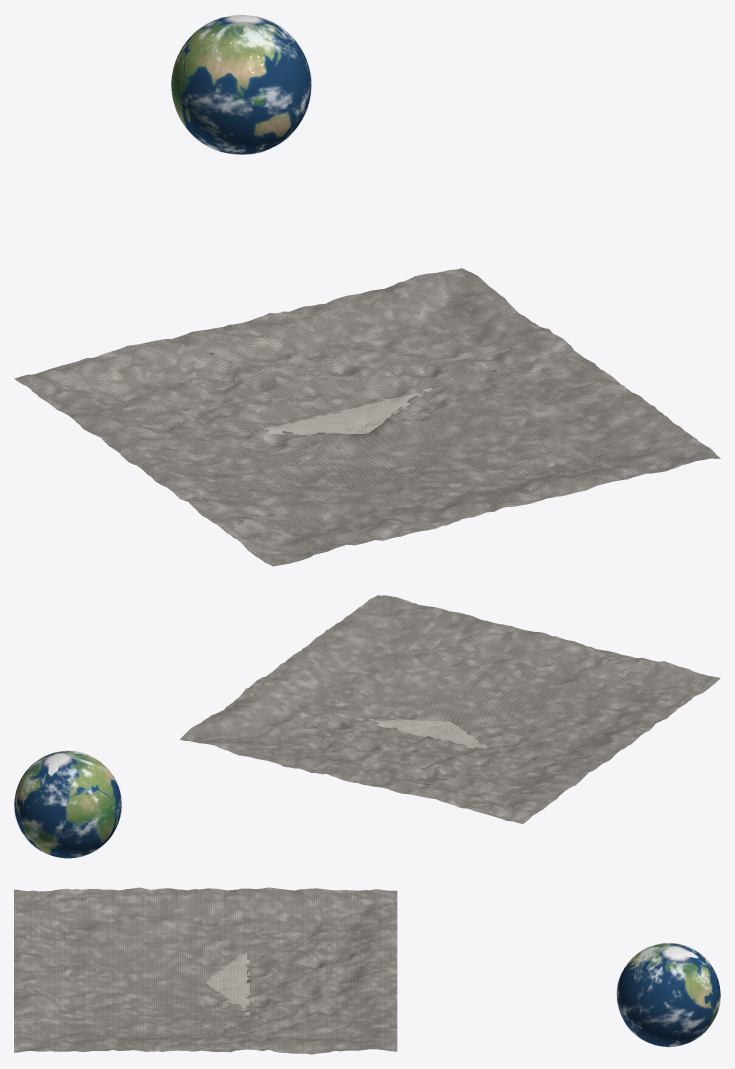
Rendered from lunar_environment_v4_mobile.glb.
3 views of the same model, one above another, from view 1: azimuth 30°, elevation 25°; view 2: azimuth 150°, elevation 25°; view 3: azimuth 270°, elevation 25° (orthographic). The views are drawn at different scales.
Parts seen in each view (by area): view 1: Lunar_Mountains_Far, Earth_Globe, Earth_CloudLayer, Lunar_Terrain_Near; view 2: Lunar_Mountains_Far, Earth_Globe, Earth_CloudLayer, Lunar_Terrain_Near; view 3: Lunar_Mountains_Far, Earth_Globe, Earth_CloudLayer, Lunar_Terrain_Near.
Part boxes in pixels (box(x1,y1,x2,y2)): Lunar_Mountains_Far: box(14, 268, 720, 566); Earth_Globe: box(171, 15, 311, 154); Earth_CloudLayer: box(171, 17, 311, 153); Lunar_Terrain_Near: box(251, 388, 431, 434); Lunar_Mountains_Far: box(180, 595, 720, 823); Earth_Globe: box(14, 751, 121, 858); Earth_CloudLayer: box(14, 750, 121, 858); Lunar_Terrain_Near: box(356, 719, 494, 751); Lunar_Mountains_Far: box(14, 887, 397, 1054); Earth_Globe: box(617, 943, 720, 1046); Earth_CloudLayer: box(616, 942, 720, 1047); Lunar_Terrain_Near: box(206, 948, 249, 1015).
Size of the model in its own units: 7358 by 2119 by 12895.
6 materials, 3 textured.
